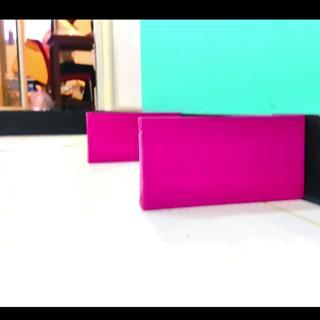xparking: (143, 118, 303, 210), (87, 113, 139, 164)
